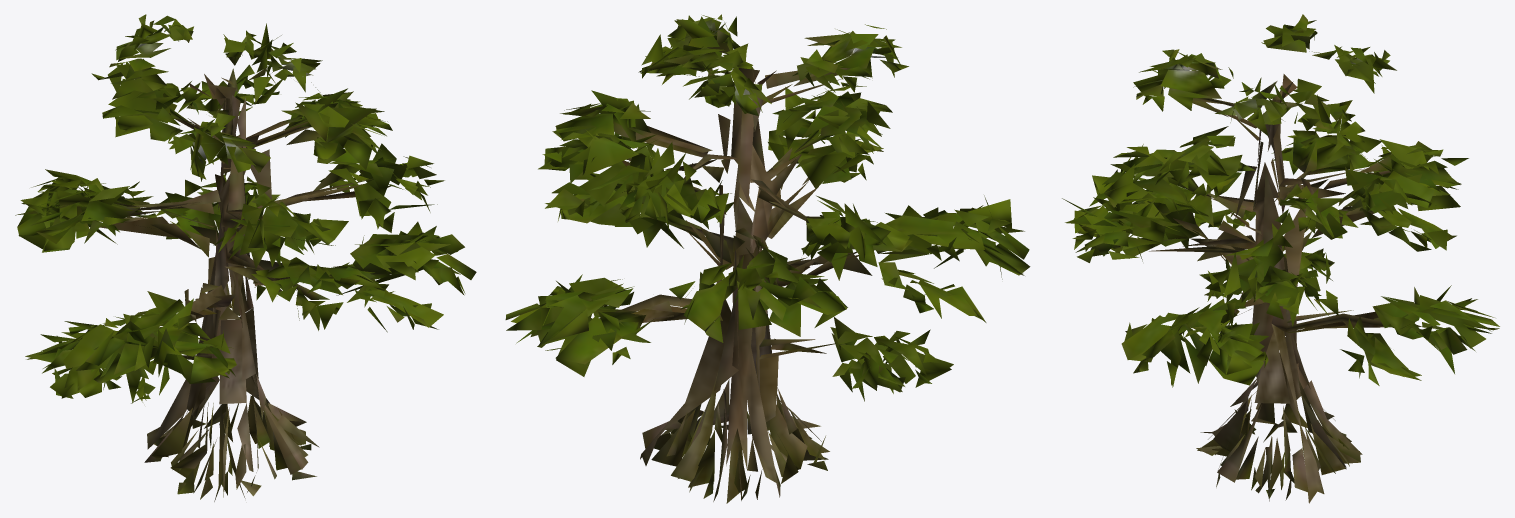
The model's file is cypress_lo2.glb.
The picture shows the model from 3 angles, left to right: view 1: azimuth 30°, elevation 25°; view 2: azimuth 150°, elevation 25°; view 3: azimuth 270°, elevation 25°; orthographic projection. The views are drawn at different scales.
Parts seen in each view (by area): view 1: tripo_node_2b70825d-6fca-47bc-aac8-b77ad632a089; view 2: tripo_node_2b70825d-6fca-47bc-aac8-b77ad632a089; view 3: tripo_node_2b70825d-6fca-47bc-aac8-b77ad632a089.
Boxes of the visible parts, left/top/right/bottom form: tripo_node_2b70825d-6fca-47bc-aac8-b77ad632a089: left=15, top=14, right=476, bottom=501; tripo_node_2b70825d-6fca-47bc-aac8-b77ad632a089: left=505, top=14, right=1030, bottom=503; tripo_node_2b70825d-6fca-47bc-aac8-b77ad632a089: left=1062, top=14, right=1499, bottom=503.
Bounding box in the file's own units: 22.41 × 22.14 × 21.61.
1 material, 1 textured.
